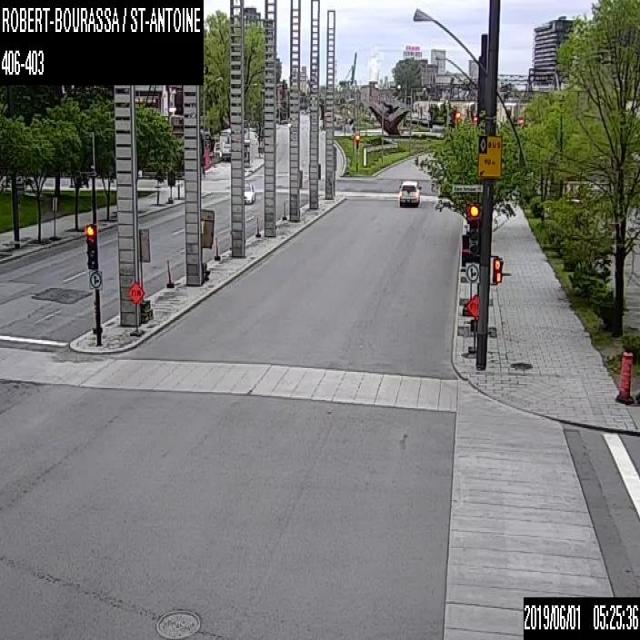construction: (137, 227, 152, 321), (200, 207, 214, 280), (126, 280, 144, 336), (615, 349, 633, 403), (465, 294, 479, 356), (48, 196, 58, 240)
vehicle: (398, 180, 422, 206), (243, 180, 255, 204)
